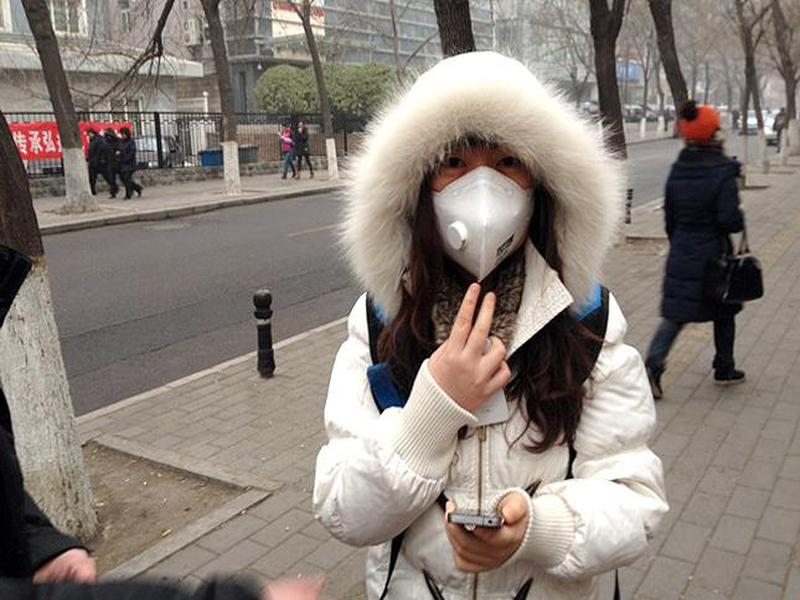with_mask: (435, 138, 539, 282)
